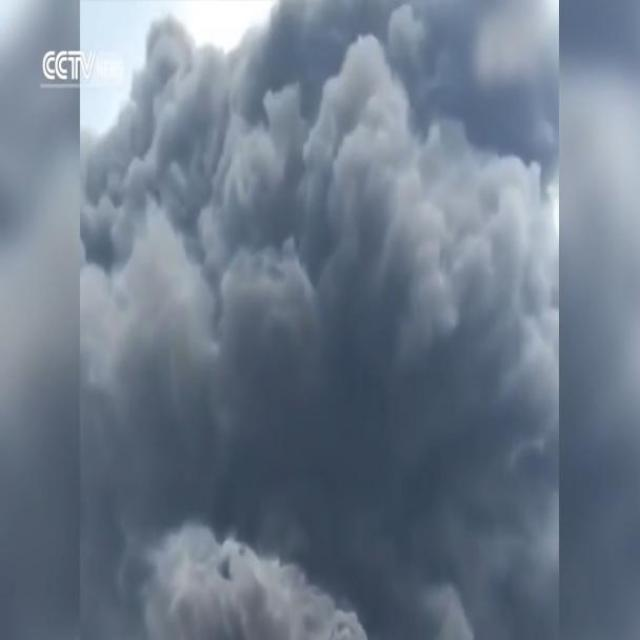Smoke: (160, 74, 512, 631)
